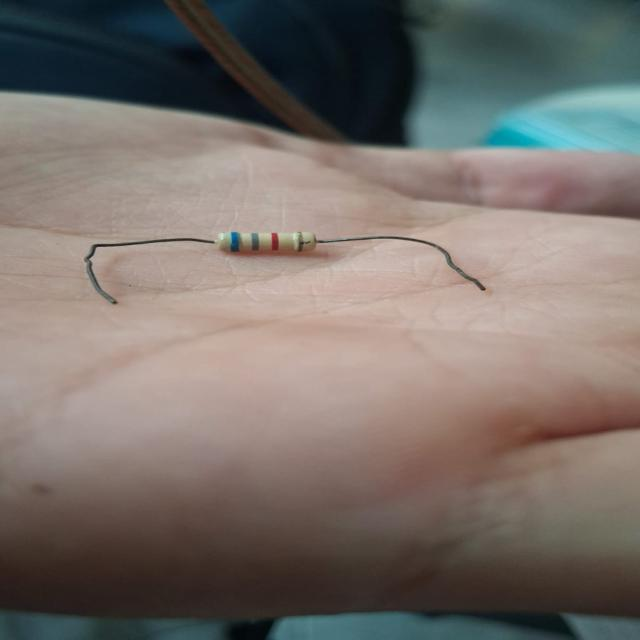Resistencia: (83, 232, 486, 304)
